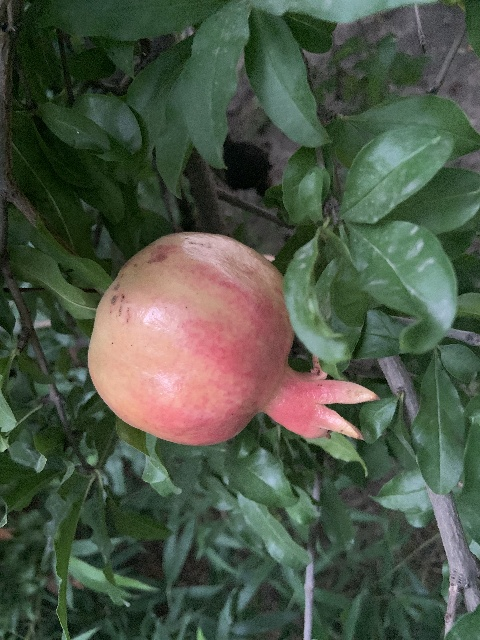ripe: (89, 230, 375, 446)
